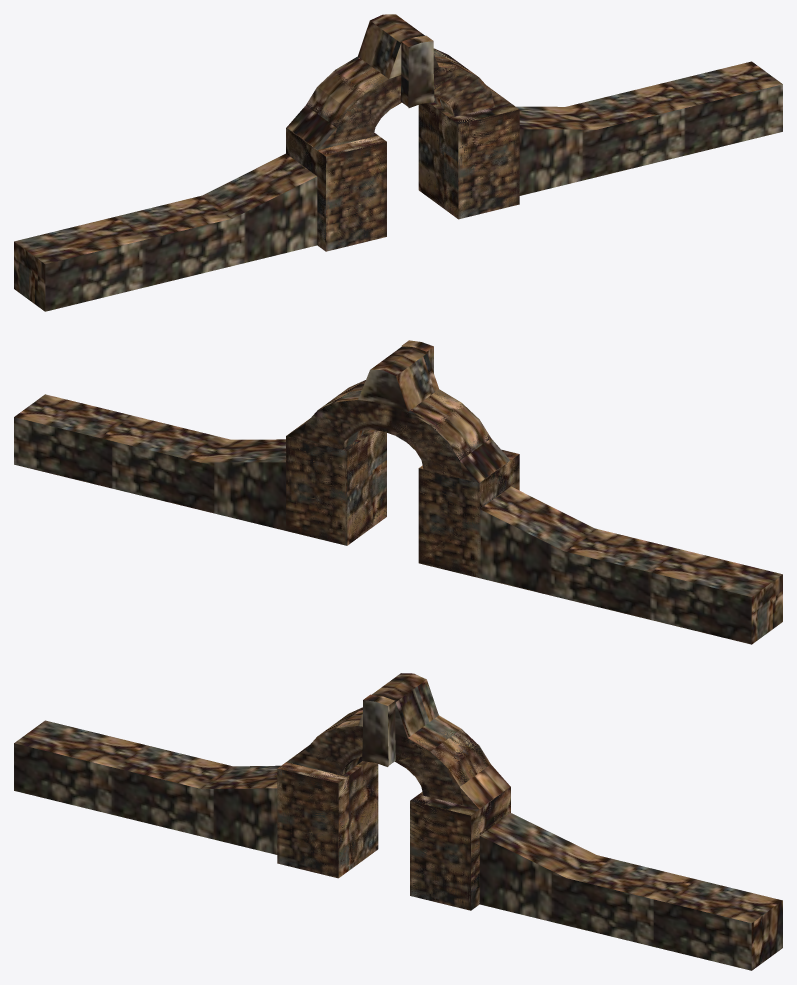
Rendered from GateFBX.fbx.
3 views of the same model, one above another, from view 1: azimuth 30°, elevation 25°; view 2: azimuth 150°, elevation 25°; view 3: azimuth 330°, elevation 25° (orthographic).
Parts seen in each view (by area): view 1: pPipe1; view 2: pPipe1; view 3: pPipe1.
Part boxes in pixels (box(x1,y1,x2,y2)): pPipe1: box(14, 14, 782, 311); pPipe1: box(14, 340, 782, 644); pPipe1: box(14, 673, 782, 970).
Size of the model in its own units: 13.67 by 3.27 by 1.28.
